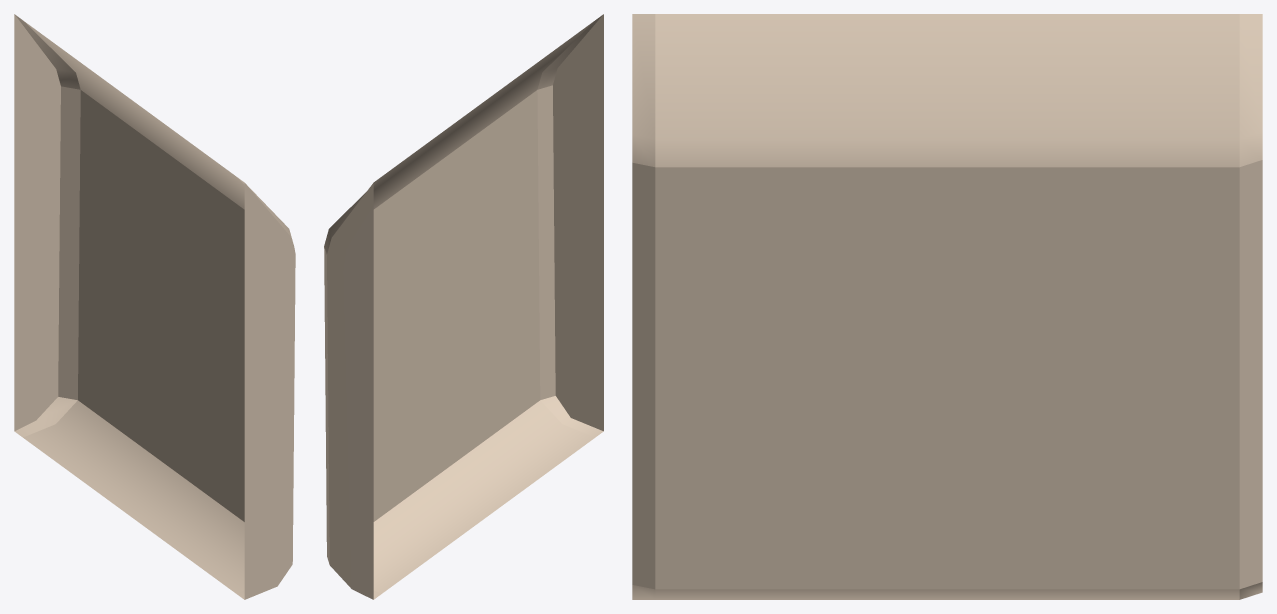
Rendered from Module_Ss_wall_1X_E1.FBX.
The picture shows the model from 3 angles, left to right: view 1: azimuth 30°, elevation 25°; view 2: azimuth 150°, elevation 25°; view 3: azimuth 270°, elevation 25°; orthographic projection. The views are drawn at different scales.
Parts seen in each view (by area): view 1: Module_Ss_wall_1X_E1; view 2: Module_Ss_wall_1X_E1; view 3: Module_Ss_wall_1X_E1.
Boxes of the visible parts, box(x1,y1,x2,y2) form: Module_Ss_wall_1X_E1: box(14, 14, 295, 599); Module_Ss_wall_1X_E1: box(324, 14, 603, 599); Module_Ss_wall_1X_E1: box(632, 14, 1262, 599).
Bounding box in the file's own units: 5.71 × 39.37 × 39.37.
